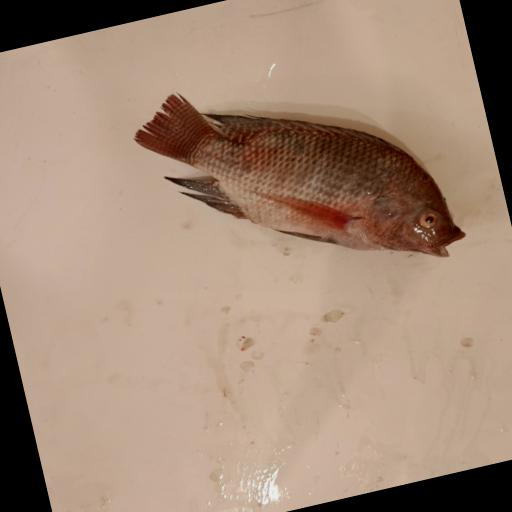Tilapia: (126, 36, 471, 320)
